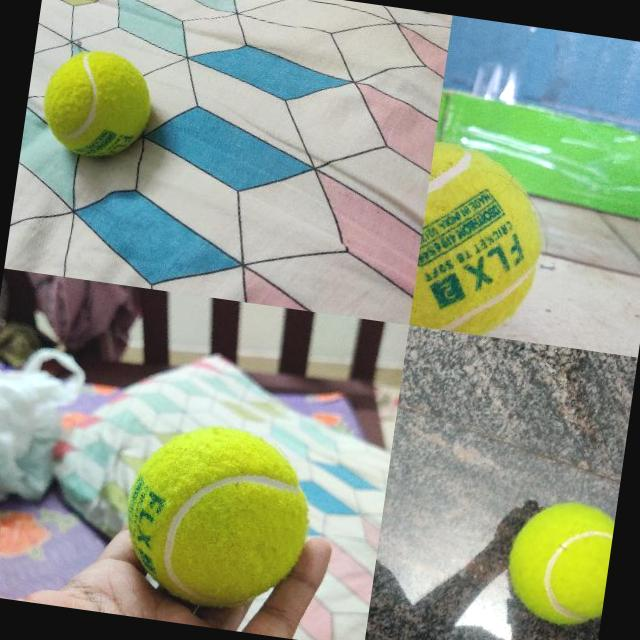Tennis Ball: (113, 414, 320, 620), (409, 140, 556, 342), (500, 494, 616, 632), (37, 44, 156, 162)
